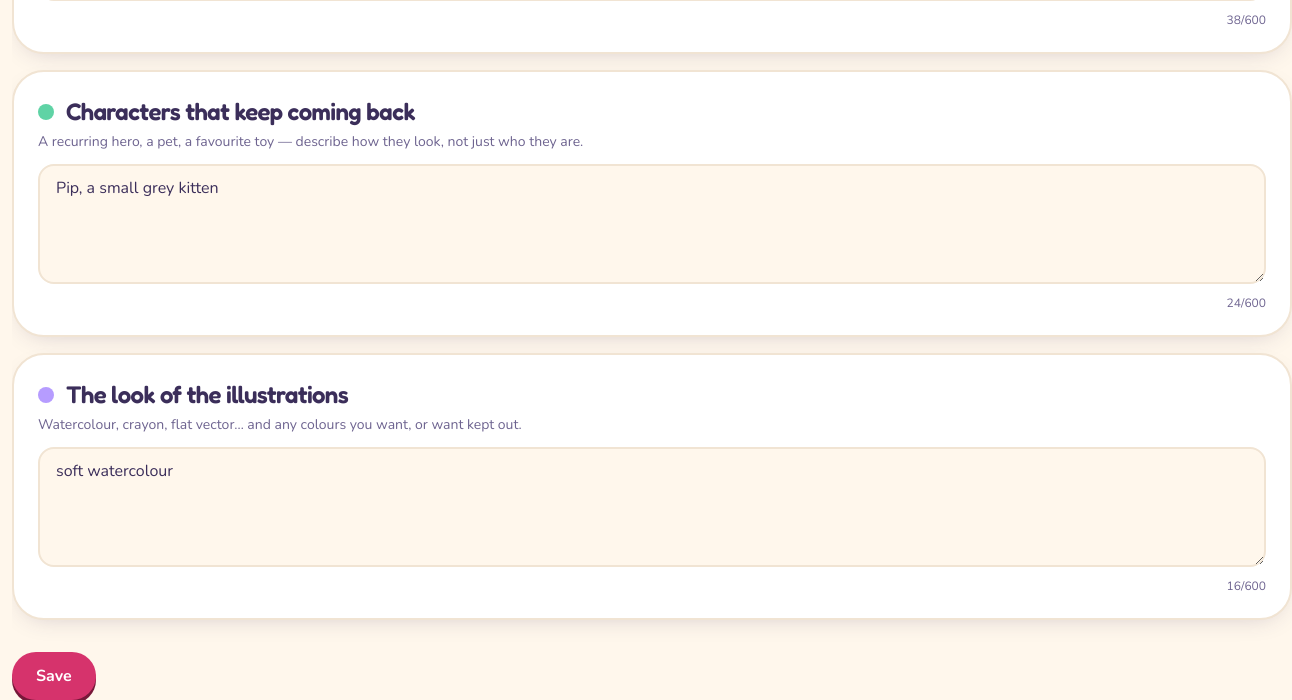
Scenario: saving › confirms the save
The width and height of the screenshot is (1292, 700).
(page scrolled)
Click the button "Save" at (54, 676), box [12,652,96,699]
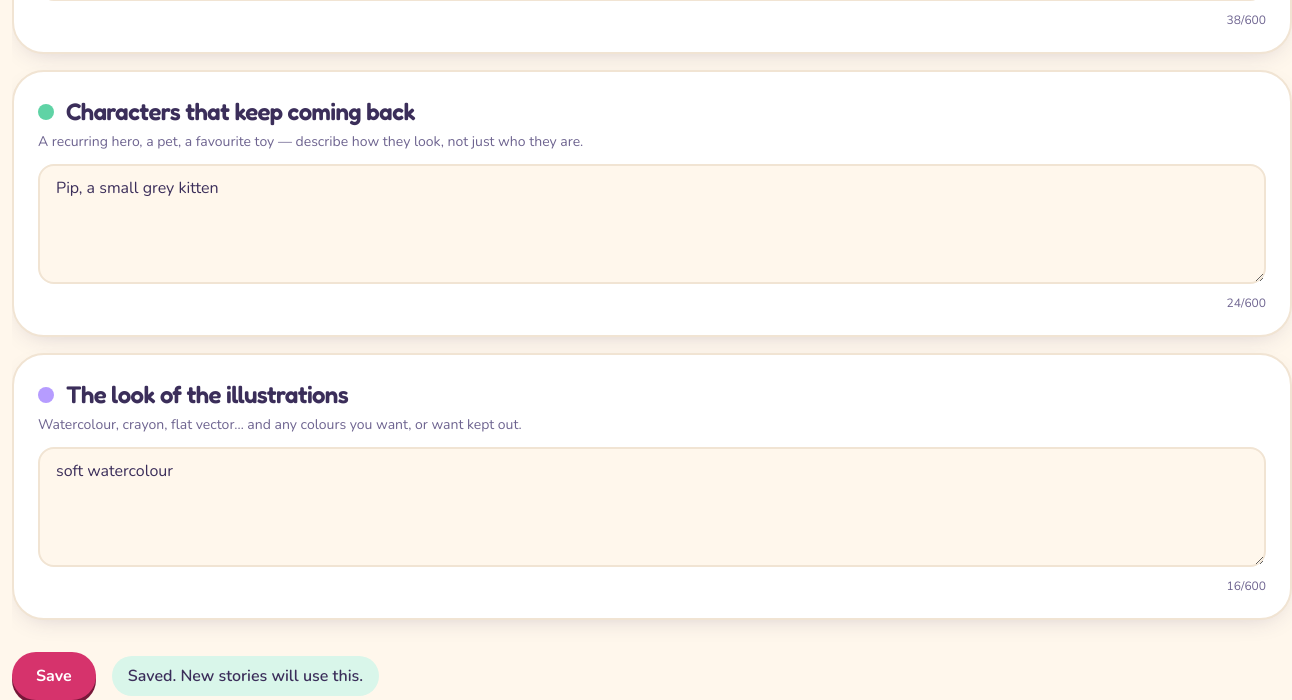
Check: the message shows "Saved", box [128,665,363,687]
